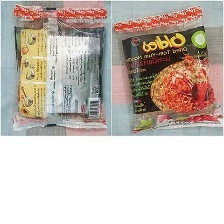snack: (111, 0, 224, 134), (6, 0, 110, 135)
